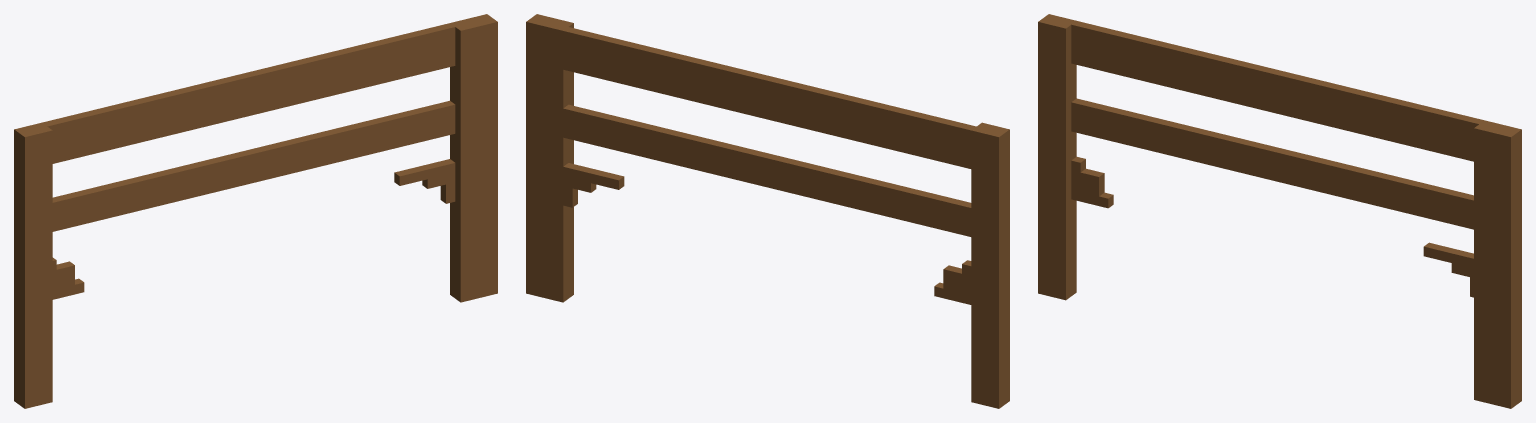
The model's file is gate-broken.obj.
3 renders of one model, left to right at view 1: azimuth 30°, elevation 25°; view 2: azimuth 150°, elevation 25°; view 3: azimuth 330°, elevation 25°, orthographic.
Visible parts, largest first — view 1: gate-broken; view 2: gate-broken; view 3: gate-broken.
Part boxes in pixels (left/top/right/bottom): gate-broken: left=14, top=14, right=497, bottom=408; gate-broken: left=526, top=14, right=1009, bottom=408; gate-broken: left=1038, top=14, right=1521, bottom=408.
Size of the model in its own units: 51 by 28 by 2.
1 material, 1 textured.
